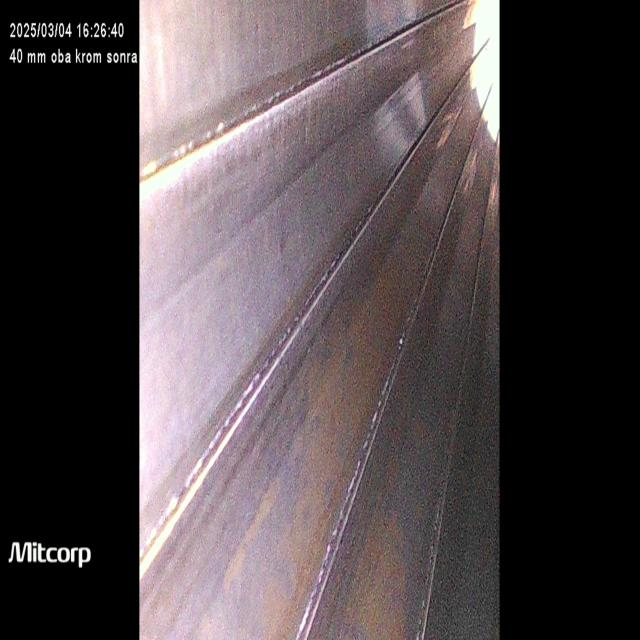hata_8.2: (140, 122, 434, 610)
